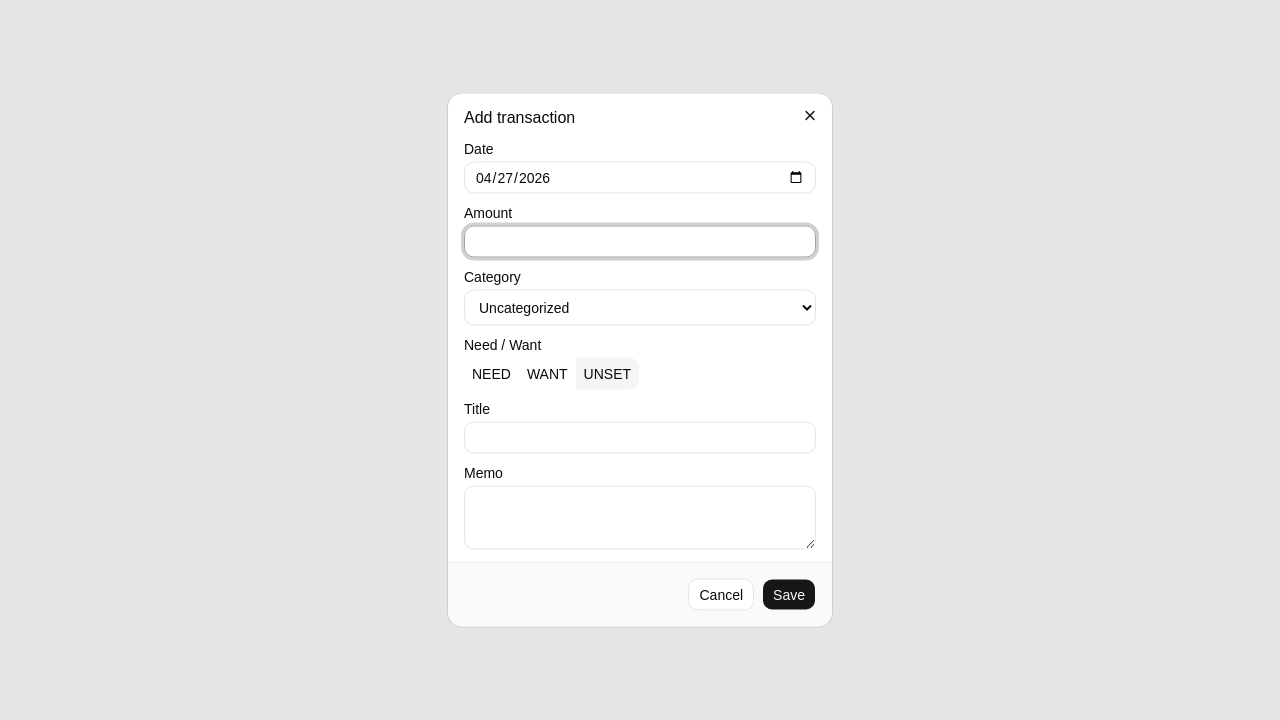
it: TransactionFormModal › posts the form values and closes the modal on successful save
The image size is (1280, 720).
Type "12.50" into the field labelled "Amount".
click(640, 242); type("12.50")  # box [464,226,816,258]
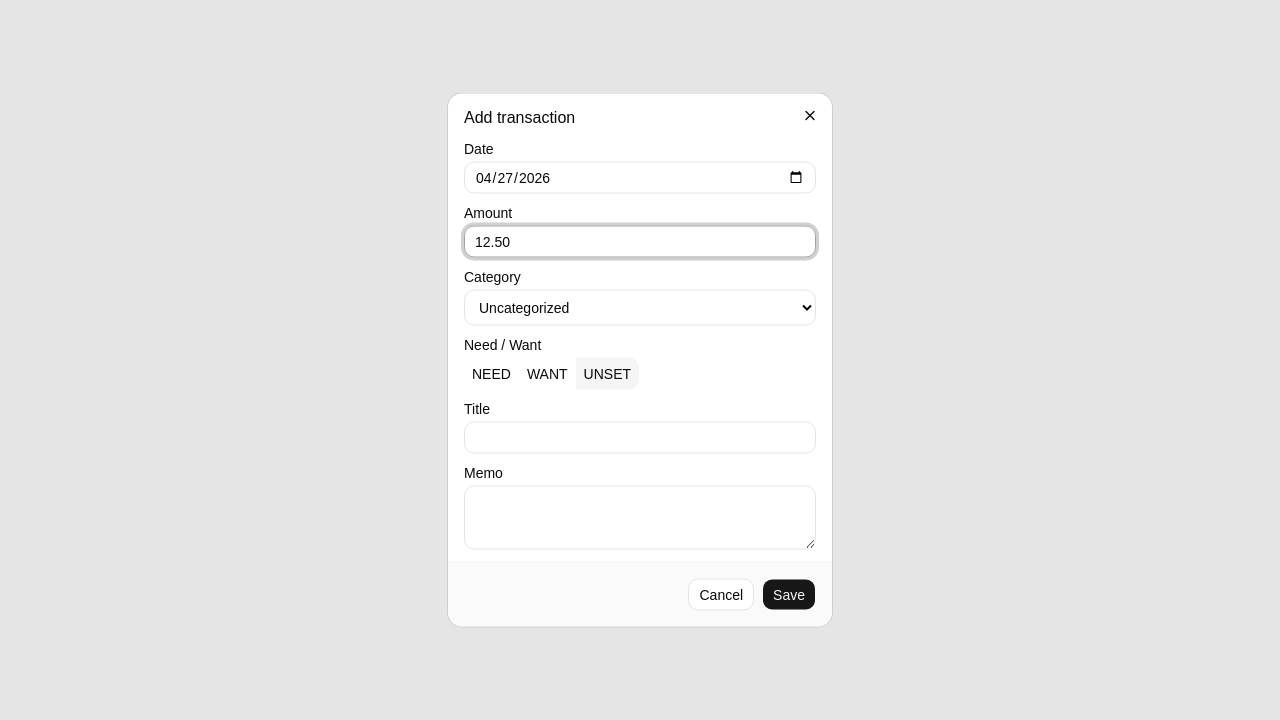
Click the button "Save".
click(789, 594)  # box [762,578,816,610]
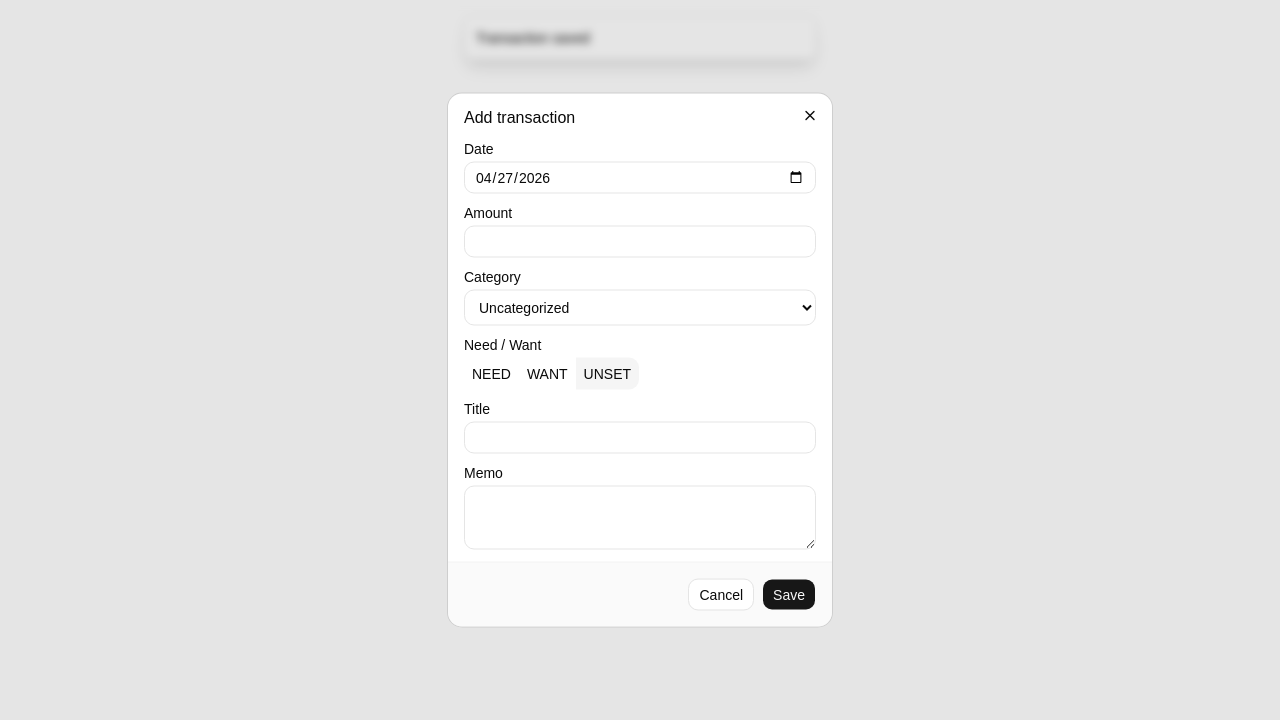
Check: the text "Transaction saved" is shown, box [476,30,590,46]
